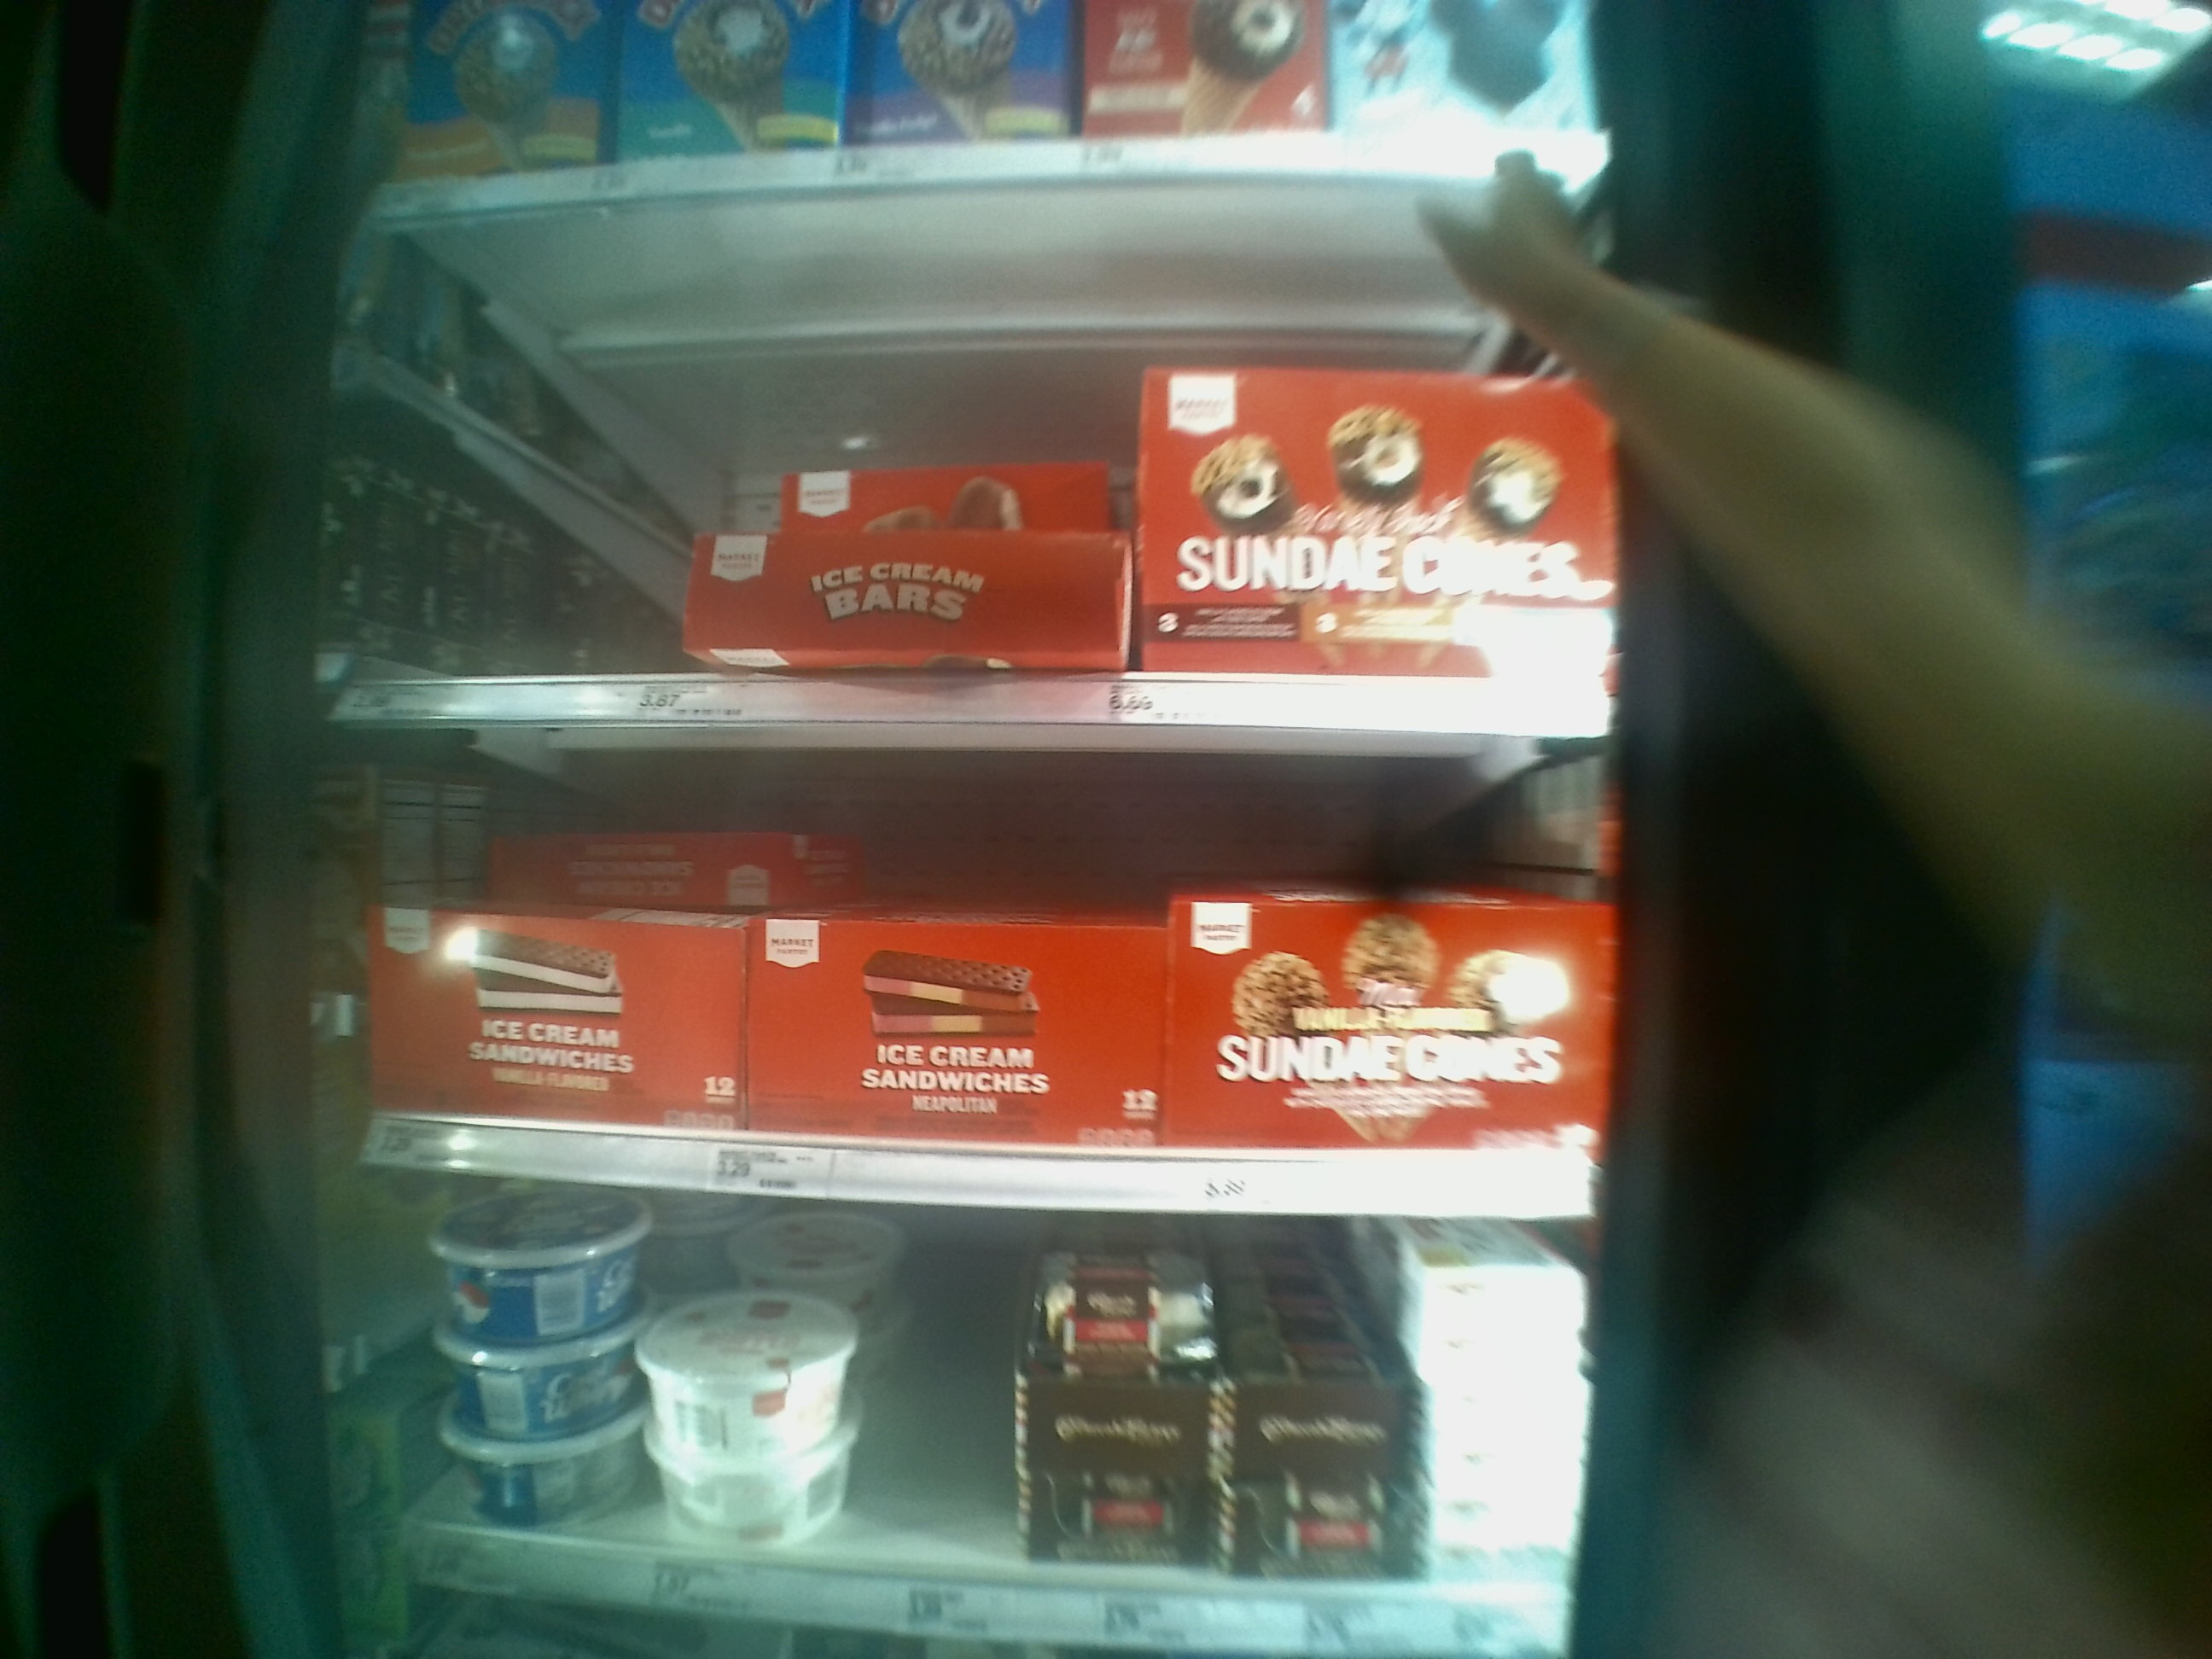shelf: (329, 221, 1629, 734), (329, 728, 1630, 1220)
